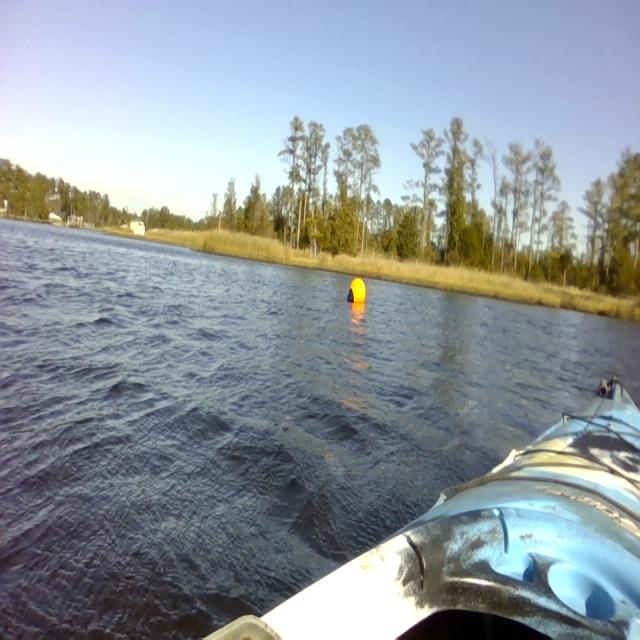Buoy: (337, 271, 374, 319)
